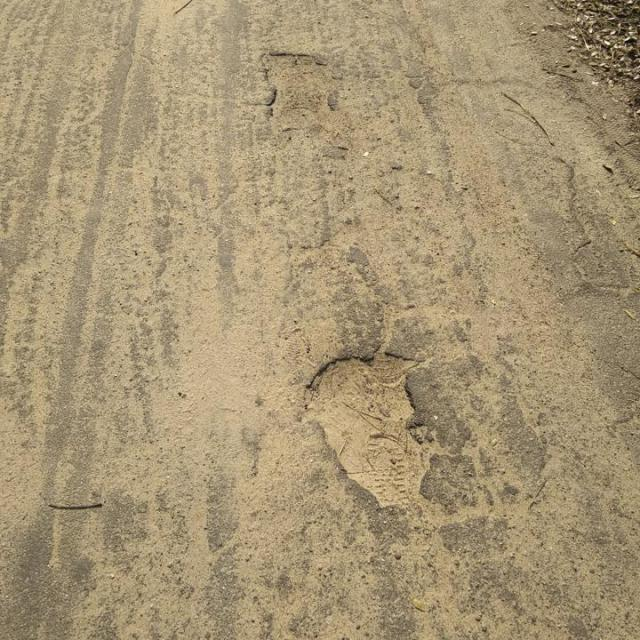Pothole: (302, 344, 444, 513), (260, 48, 346, 135)
